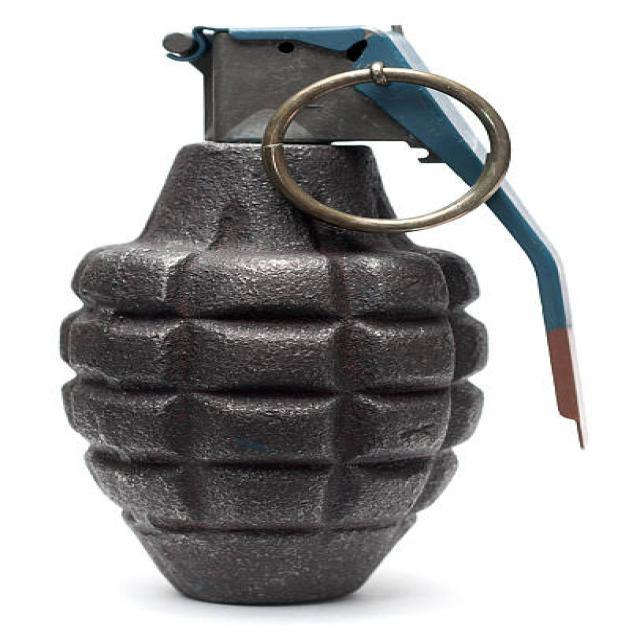grenade: (39, 14, 595, 615)
